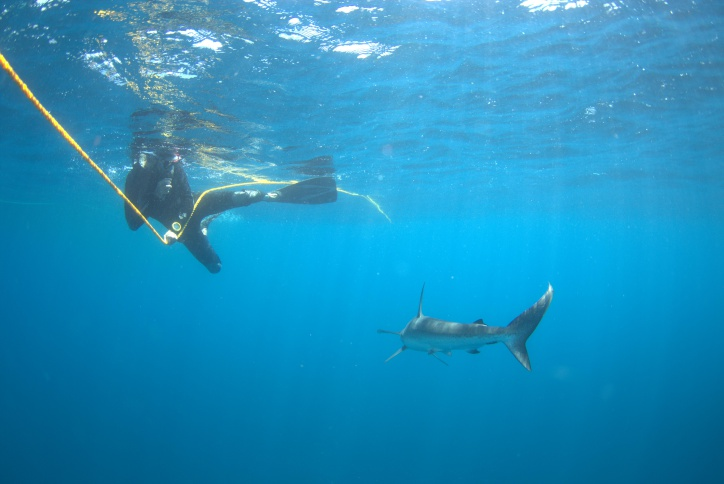Hammer: (359, 274, 570, 378)
